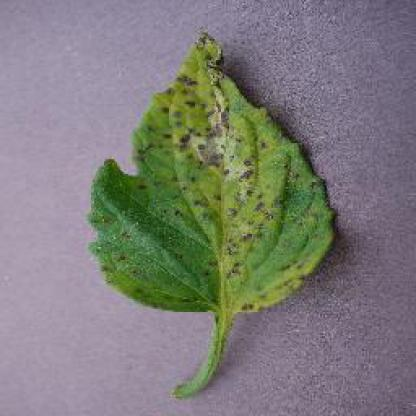bad leaf: (130, 32, 298, 306)
